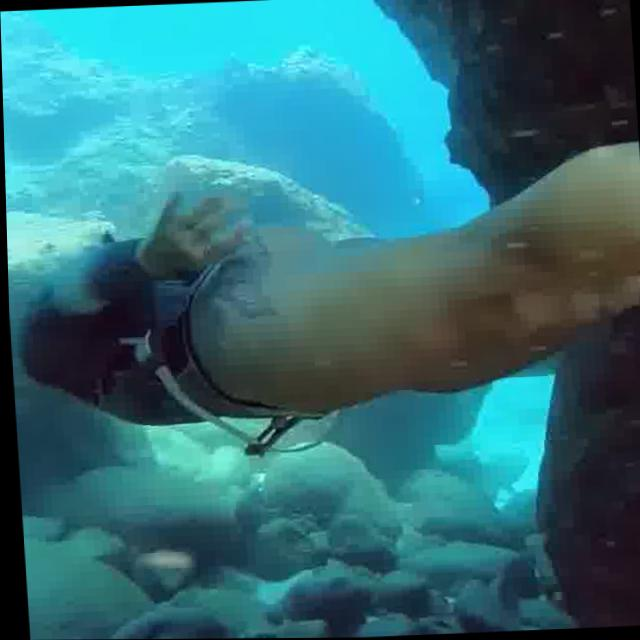human: (1, 31, 640, 463)
